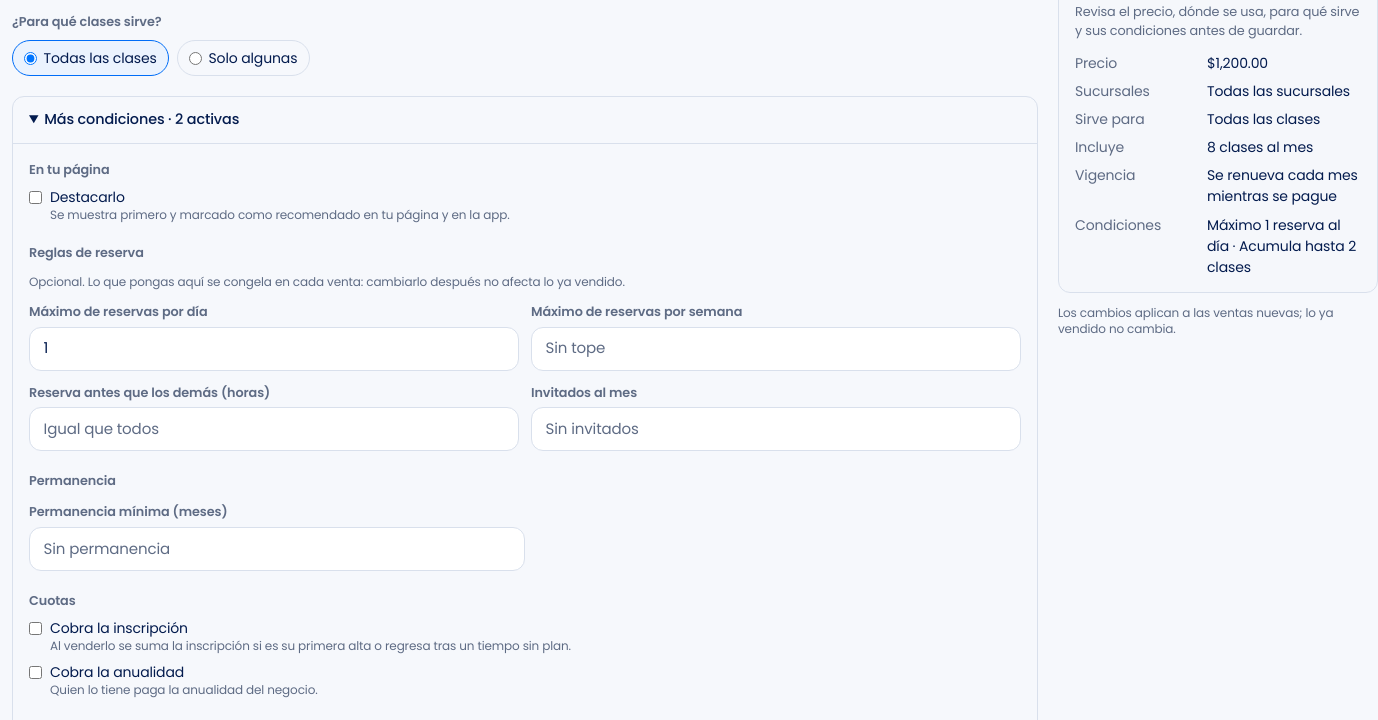
Test: las condiciones, plegadas en «Más condiciones» › si el plan ya trae alguna, se abren con cuántas y el resumen las junta
(page scrolled)
Expected: the heading "Más condiciones · 2 activas" is shown, x1=13 y1=97 x2=1037 y2=144
Expected: the text "Máximo 1 reserva al día · Acumula hasta 2 clases" is shown, x1=1207 y1=214 x2=1361 y2=278
Clear the number field labelled "Máximo de reservas por día" at point(274, 349), box x1=29 y1=327 x2=519 y2=371
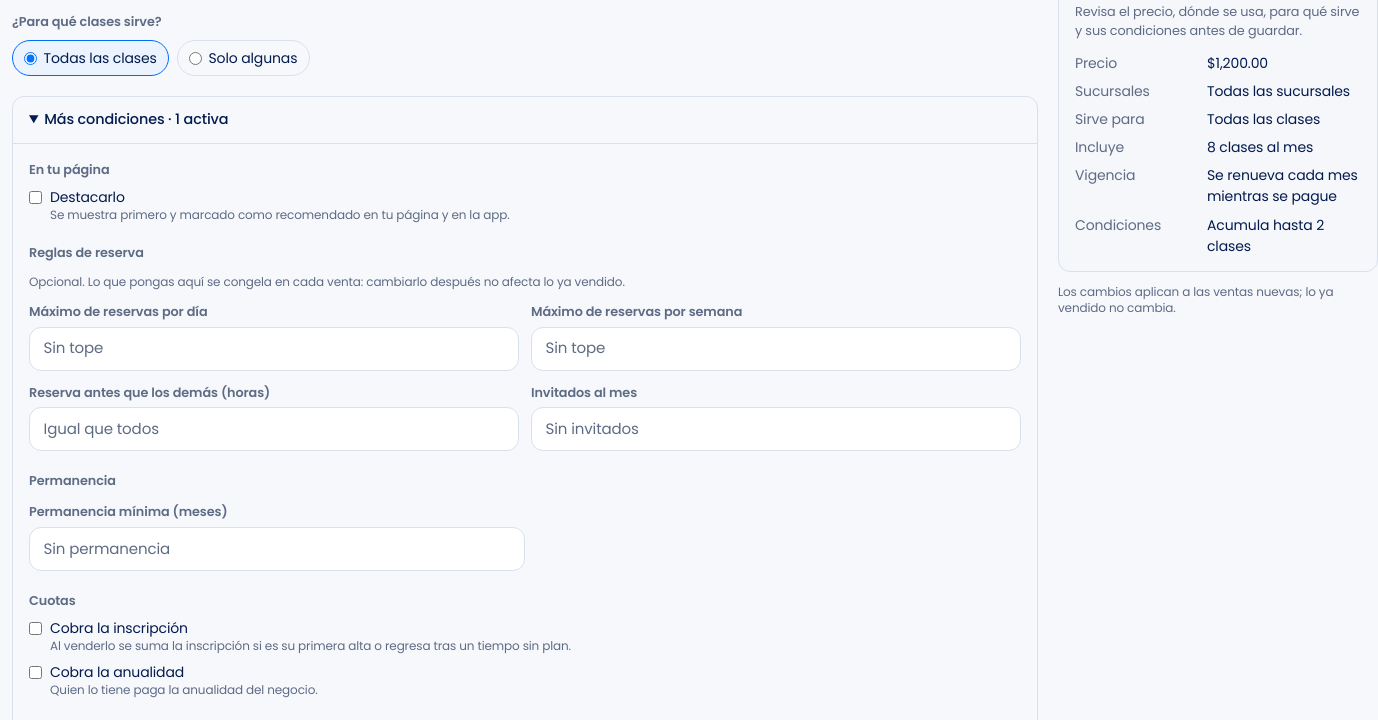
Expected: the heading "Más condiciones · 1 activa" is shown, x1=13 y1=97 x2=1037 y2=144
